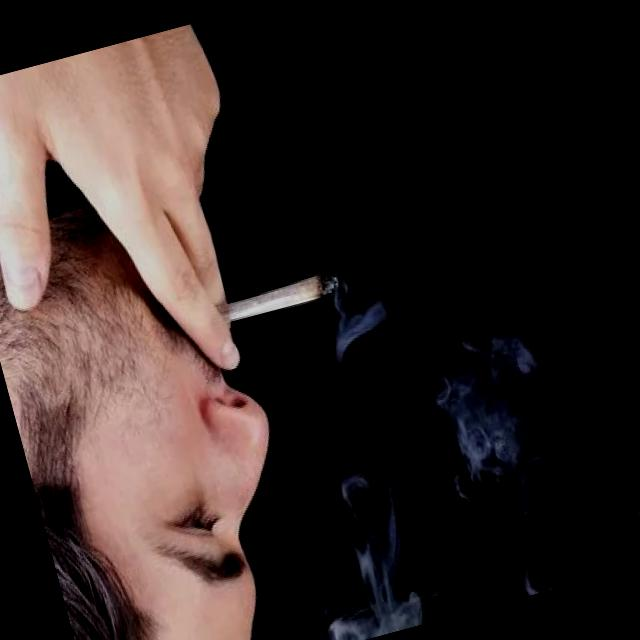cigarette: (202, 262, 354, 335)
